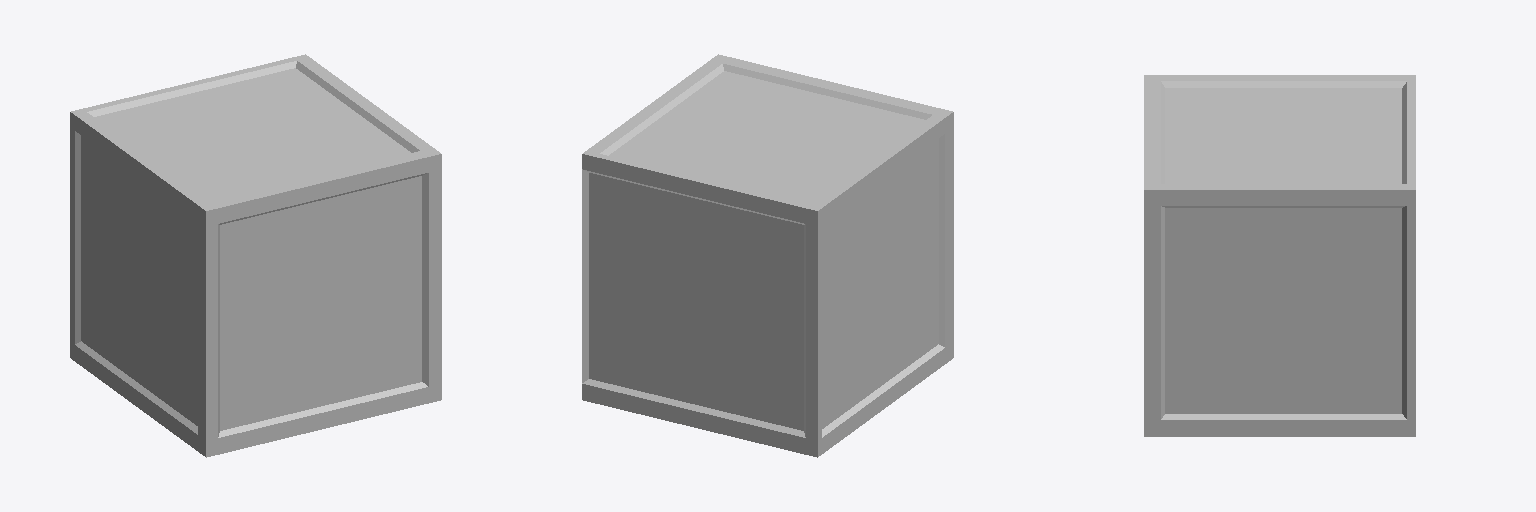
File: Crate.obj
3 views of the same model, side by side, from view 1: azimuth 30°, elevation 25°; view 2: azimuth 150°, elevation 25°; view 3: azimuth 270°, elevation 25° (orthographic).
Parts seen in each view (by area): view 1: pCube1; view 2: pCube1; view 3: pCube1.
Part boxes in pixels (x1,y1,x2,y2): pCube1: (70,54,441,457); pCube1: (582,54,953,457); pCube1: (1144,75,1415,436).
Size of the model in its own units: 1.56 by 1.56 by 1.56.